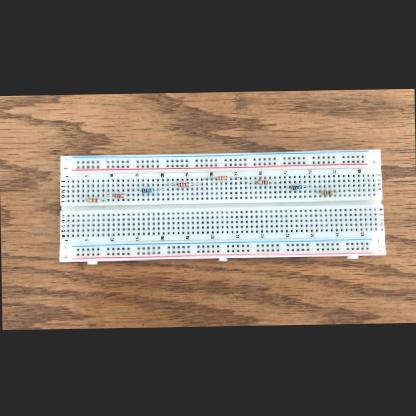breadboard: (58, 148, 386, 262)
resistor: (290, 183, 302, 188), (87, 197, 99, 201), (113, 192, 125, 196), (140, 187, 152, 191), (178, 182, 190, 186), (217, 174, 228, 178), (257, 179, 268, 183), (321, 189, 332, 193)
wire: (229, 176, 246, 178), (201, 176, 216, 178), (302, 184, 314, 186), (269, 180, 280, 182), (279, 186, 290, 188), (190, 182, 201, 184), (152, 188, 162, 190), (100, 198, 108, 200), (162, 183, 177, 184), (314, 190, 321, 192), (333, 190, 340, 192), (245, 181, 256, 182), (131, 189, 140, 190), (83, 198, 87, 200), (106, 194, 114, 195), (126, 194, 134, 195)
